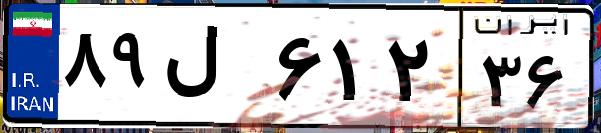1: (330, 28, 385, 110)
2: (385, 28, 445, 110)
3: (475, 38, 525, 113)
6: (270, 28, 330, 110), (525, 38, 570, 115)
8: (57, 26, 110, 100)
9: (110, 28, 158, 98)
ل: (158, 20, 270, 120)
